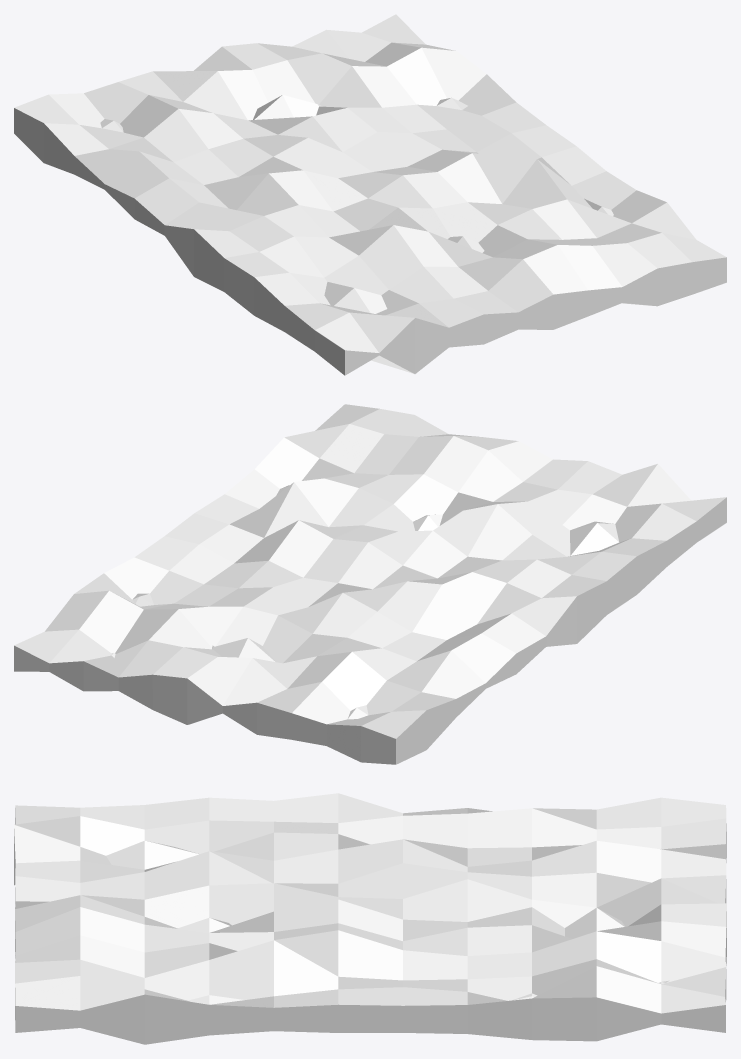
The model's file is PaperSheet.fbx.
3 renders of one model, top to bottom at view 1: azimuth 30°, elevation 25°; view 2: azimuth 150°, elevation 25°; view 3: azimuth 270°, elevation 25°, orthographic. The views are drawn at different scales.
Parts seen in each view (by area): view 1: PaperSheet; view 2: PaperSheet; view 3: PaperSheet.
Boxes of the visible parts, x1=… form: PaperSheet: x1=14, y1=14, x2=726, y2=375; PaperSheet: x1=14, y1=404, x2=726, y2=764; PaperSheet: x1=14, y1=793, x2=726, y2=1044.
Size of the model in its own units: 10.04 by 1.98 by 15.06.
